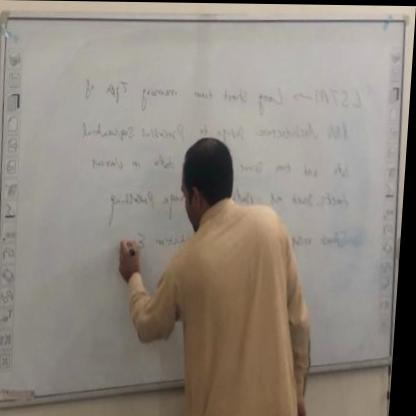Handwritten text: (72, 63, 374, 121), (70, 109, 355, 151), (234, 149, 365, 180), (264, 182, 356, 216)
Lecturer: (131, 129, 327, 407)
Whiteboard: (0, 14, 406, 410)
